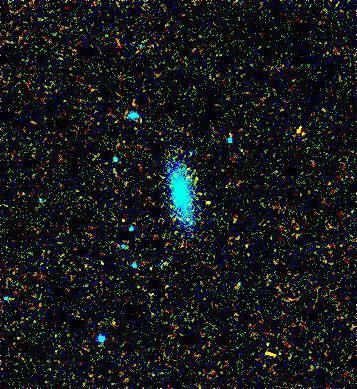star: (194, 188, 224, 218)
